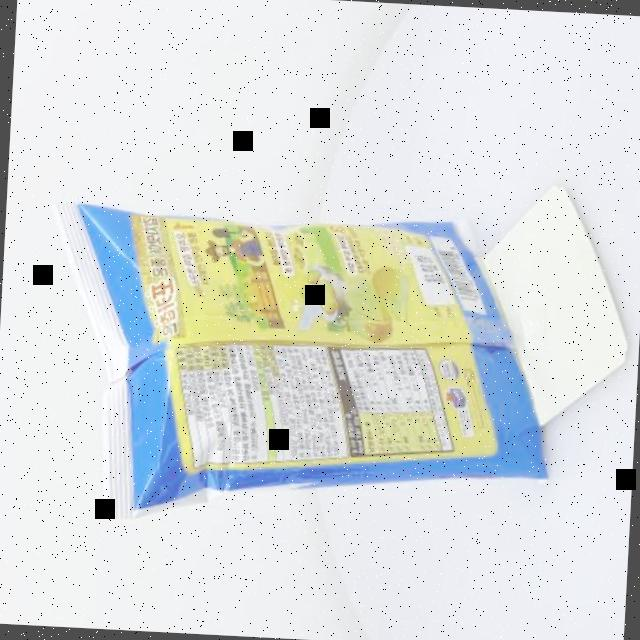snack_bag: (14, 135, 572, 554)
